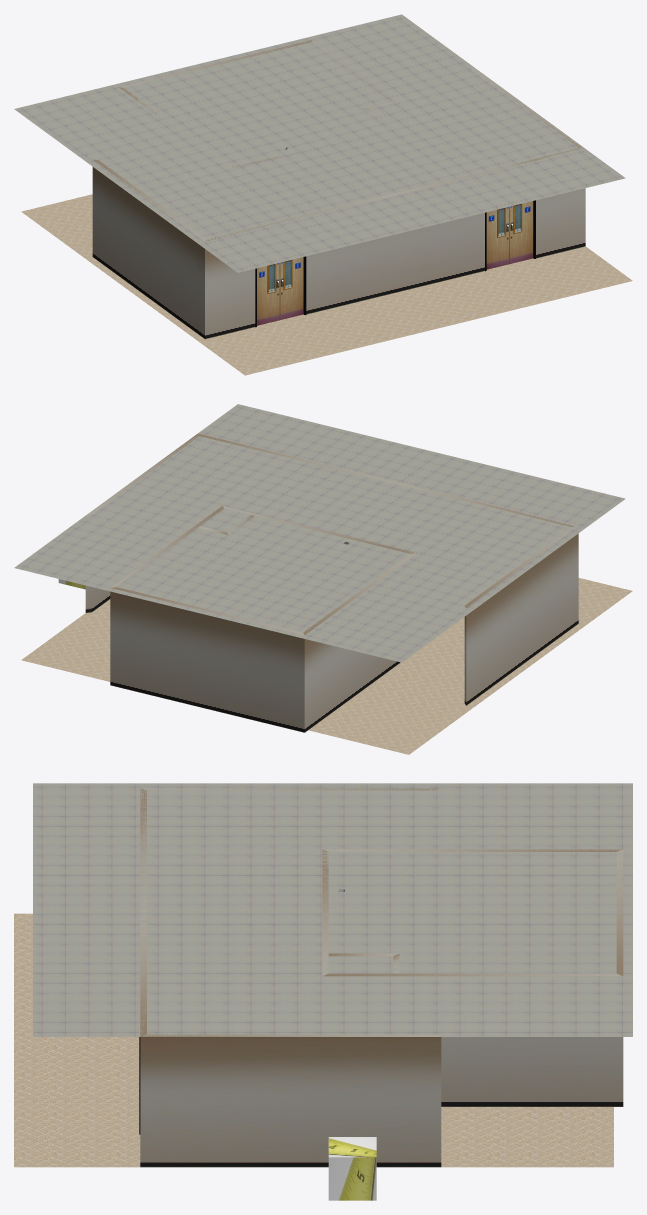
Rendered from Room.fbx.
3 renders of one model, top to bottom at view 1: azimuth 30°, elevation 25°; view 2: azimuth 150°, elevation 25°; view 3: azimuth 270°, elevation 25°, orthographic. The views are drawn at different scales.
Parts seen in each view (by area): view 1: Ceiling, Floor, Hall_South_Wall, East_Wall7, Door_L (×2), Door_R (×2), North_Wall; view 2: Ceiling, North_Wall, Floor, East_Wall7, West_Wall, Hall_South_Wall, East_Wall6, South_Wall, East_Wall; view 3: Ceiling, East_Wall6, Floor, East_Wall, _Measure_Cube_, Hall_South_Wall, North_Wall, West_Wall, South_Wall, East_Wall7.
Boxes of the visible parts, box(x1,y1,x2,y2) form: Ceiling: box(14, 14, 625, 272); Floor: box(21, 194, 632, 375); Hall_South_Wall: box(205, 148, 585, 339); East_Wall7: box(92, 159, 206, 338); Door_L (×2): box(280, 201, 533, 319); Door_R (×2): box(257, 207, 509, 325); North_Wall: box(119, 40, 312, 87); Ceiling: box(14, 404, 625, 662); North_Wall: box(110, 587, 304, 732); Floor: box(21, 578, 632, 754); East_Wall7: box(464, 527, 578, 705); West_Wall: box(303, 553, 416, 732); Hall_South_Wall: box(198, 433, 574, 526); East_Wall6: box(85, 433, 199, 612); South_Wall: box(223, 506, 416, 553); East_Wall: box(110, 506, 223, 587); Ceiling: box(33, 783, 632, 1036); East_Wall6: box(140, 1034, 441, 1167); Floor: box(14, 913, 613, 1167); East_Wall: box(323, 973, 623, 1106); _Measure_Cube_: box(328, 1137, 376, 1200); Hall_South_Wall: box(140, 788, 146, 1036); North_Wall: box(616, 849, 623, 975); West_Wall: box(323, 849, 621, 851); South_Wall: box(322, 849, 328, 975); East_Wall7: box(141, 788, 438, 790).
Bounding box in the file's own units: 14.14 × 3 × 12.89.
